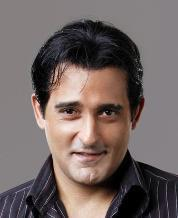face: (58, 102, 118, 165)
